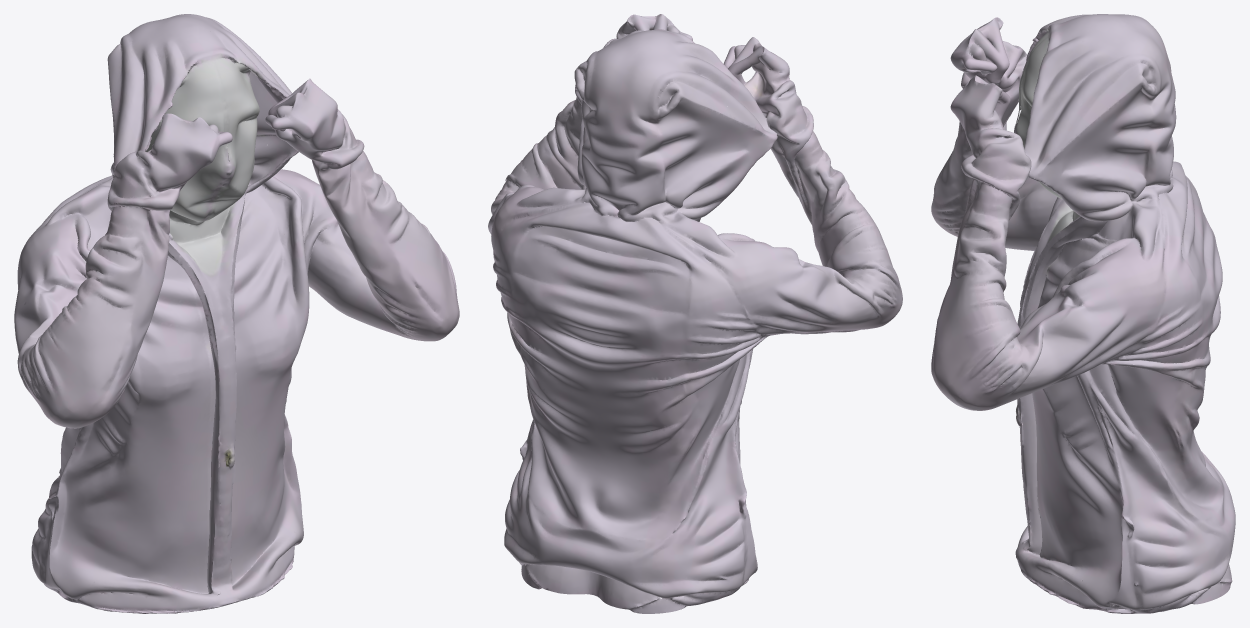
File: sunshirt.glb
3 views of the same model, side by side, from view 1: azimuth 30°, elevation 25°; view 2: azimuth 150°, elevation 25°; view 3: azimuth 270°, elevation 25° (orthographic). The views are drawn at different scales.
Parts seen in each view (by area): view 1: tripo_node_145c2fc9-76bd-416b-9021-717564edb93f; view 2: tripo_node_145c2fc9-76bd-416b-9021-717564edb93f; view 3: tripo_node_145c2fc9-76bd-416b-9021-717564edb93f.
Boxes of the visible parts, x1,y1,x2,y2 form: tripo_node_145c2fc9-76bd-416b-9021-717564edb93f: [14, 14, 459, 613]; tripo_node_145c2fc9-76bd-416b-9021-717564edb93f: [488, 14, 902, 613]; tripo_node_145c2fc9-76bd-416b-9021-717564edb93f: [931, 14, 1235, 613].
Bounding box in the file's own units: 0.7851 × 1 × 0.5061.
1 material, 1 textured.
